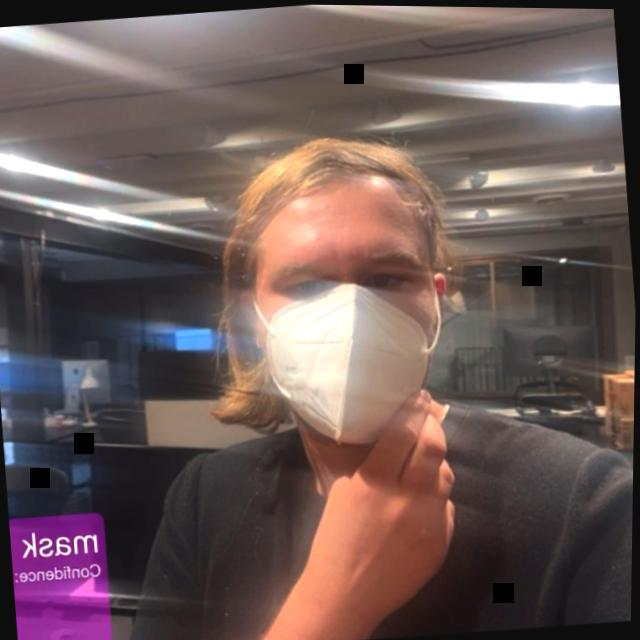Mask: (196, 94, 487, 451)
